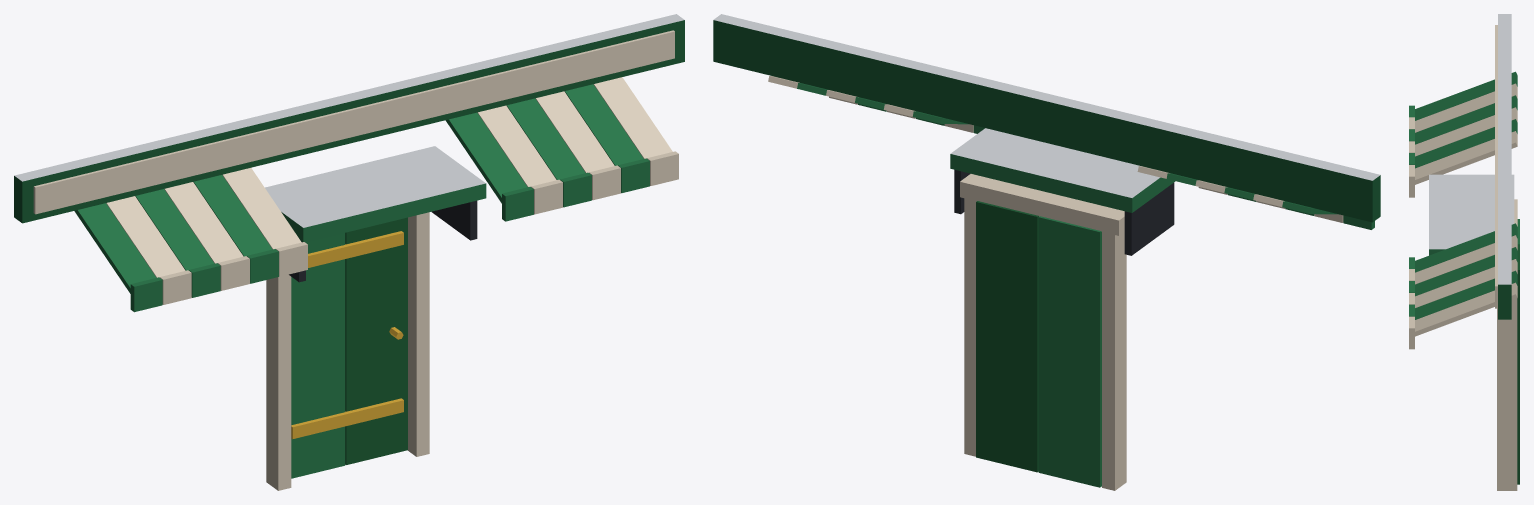
The model's file is Shop_Cocoa_Shopfront.glb.
The picture shows the model from 3 angles, left to right: view 1: azimuth 30°, elevation 25°; view 2: azimuth 150°, elevation 25°; view 3: azimuth 270°, elevation 25°; orthographic projection. The views are drawn at different scales.
Visible parts, largest first — view 1: Shop_Cocoa_Shopfront; view 2: Shop_Cocoa_Shopfront; view 3: Shop_Cocoa_Shopfront.
Boxes of the visible parts, x1,y1,x2,y2 form: Shop_Cocoa_Shopfront: (14, 14, 684, 490); Shop_Cocoa_Shopfront: (713, 14, 1380, 490); Shop_Cocoa_Shopfront: (1409, 14, 1519, 490).
Size of the model in its own units: 23.2 by 12.43 by 4.02.
